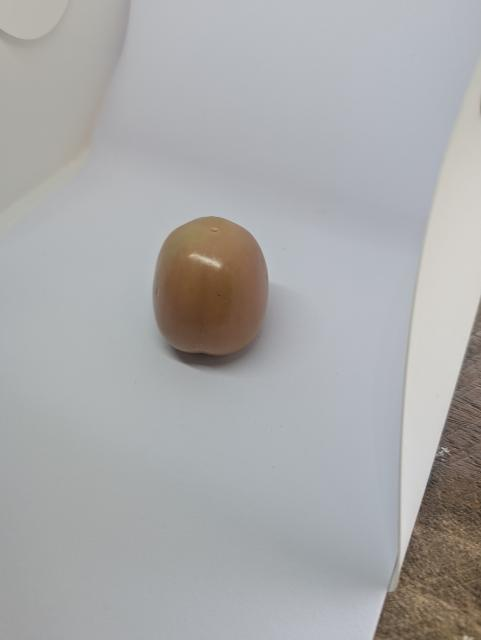turning: (143, 212, 284, 363)
